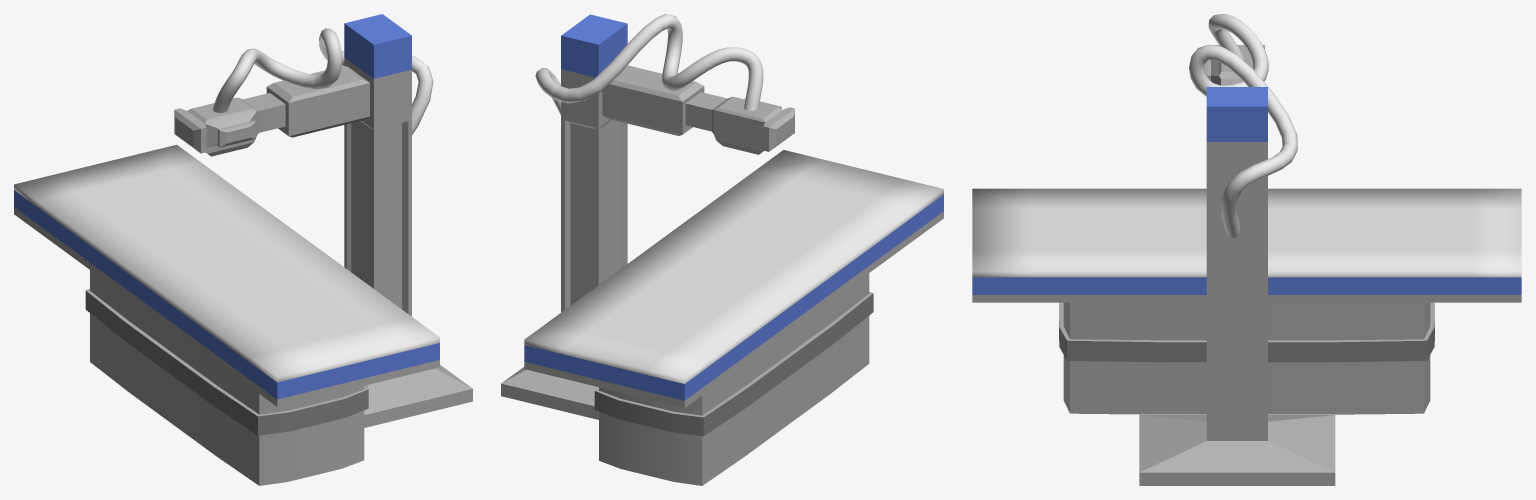
Rendered from x-ray_bed.glb.
3 renders of one model, left to right at view 1: azimuth 30°, elevation 25°; view 2: azimuth 150°, elevation 25°; view 3: azimuth 270°, elevation 25°, orthographic. The views are drawn at different scales.
Parts seen in each view (by area): view 1: bedtop_0, sidething_2, steelbase_1, tube_3; view 2: bedtop_0, sidething_2, steelbase_1, tube_3; view 3: bedtop_0, steelbase_1, sidething_2, tube_3.
Boxes of the visible parts, x1,y1,x2,y2 form: bedtop_0: (14, 144, 439, 399); sidething_2: (174, 14, 472, 427); steelbase_1: (14, 207, 439, 485); tube_3: (213, 28, 433, 134); bedtop_0: (524, 150, 943, 400); sidething_2: (501, 14, 794, 419); steelbase_1: (524, 211, 943, 485); tube_3: (535, 14, 763, 114); bedtop_0: (972, 188, 1521, 294); steelbase_1: (972, 295, 1521, 414); sidething_2: (1139, 45, 1335, 485); tube_3: (1189, 14, 1297, 238).
Bounding box in the file's own units: 1.73 × 2.17 × 2.8.
